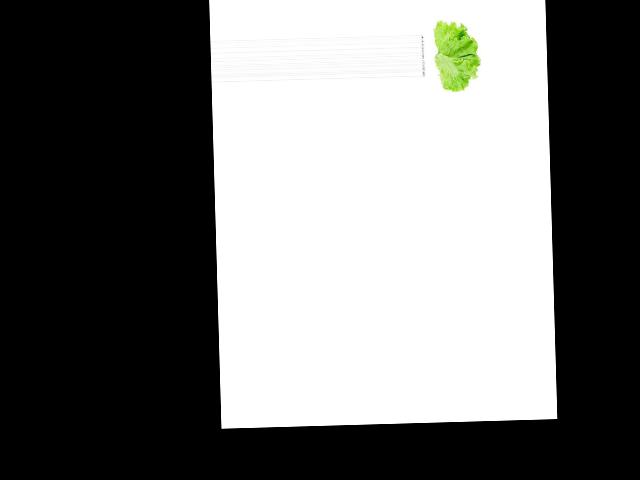lettuce: (424, 19, 482, 94)
